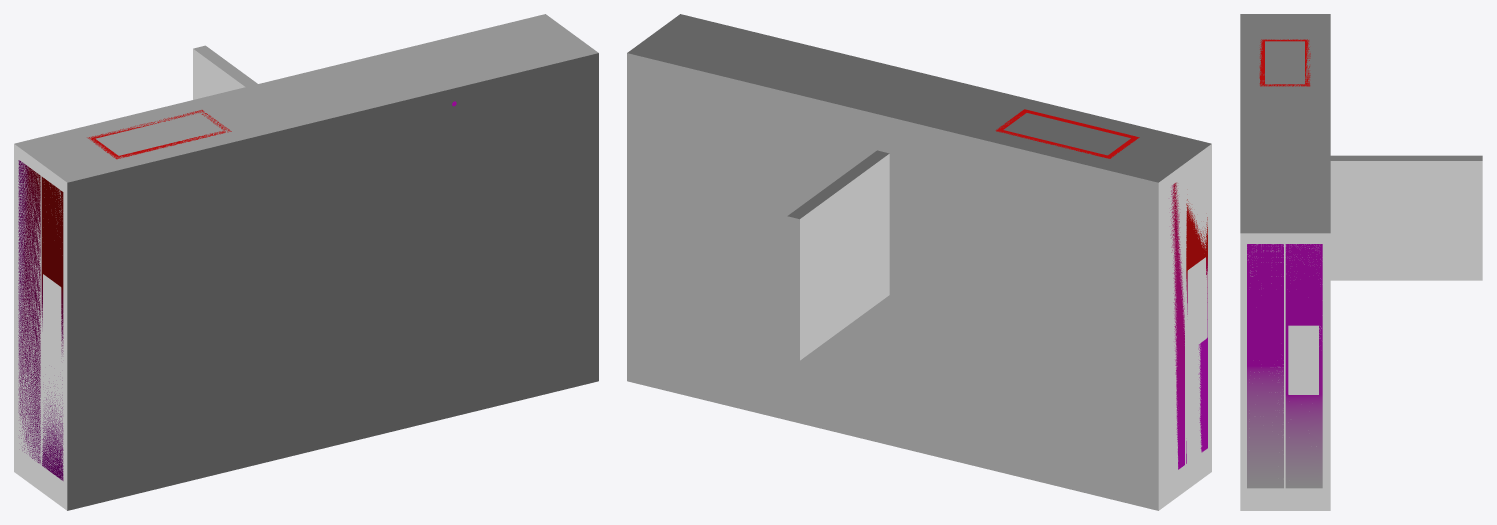
3 views of the same model, side by side, from view 1: azimuth 30°, elevation 25°; view 2: azimuth 150°, elevation 25°; view 3: azimuth 270°, elevation 25° (orthographic). The views are drawn at different scales.
Parts seen in each view (by area): view 1: SM_Turnstile_01b_ConvexHulls, SM_Turnstile_01b; view 2: SM_Turnstile_01b_ConvexHulls, SM_Turnstile_01b; view 3: SM_Turnstile_01b_ConvexHulls, SM_Turnstile_01b.
Part boxes in pixels (<box>): SM_Turnstile_01b_ConvexHulls: <box>14,14,598,510</box>; SM_Turnstile_01b: <box>18,101,456,480</box>; SM_Turnstile_01b_ConvexHulls: <box>627,14,1211,510</box>; SM_Turnstile_01b: <box>995,109,1207,469</box>; SM_Turnstile_01b_ConvexHulls: <box>1240,14,1482,510</box>; SM_Turnstile_01b: <box>1247,39,1322,488</box>.
Bounding box in the file's own units: 182 × 85.02 × 107.
